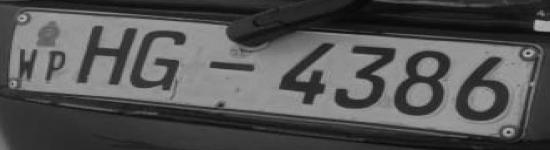-: (207, 57, 259, 79)
3: (337, 40, 396, 113)
4: (272, 39, 339, 106)
6: (452, 52, 519, 126)
8: (395, 47, 453, 121)
G: (136, 27, 200, 98)
H: (77, 23, 139, 90)
P: (42, 48, 73, 84)
W: (12, 47, 43, 80)
